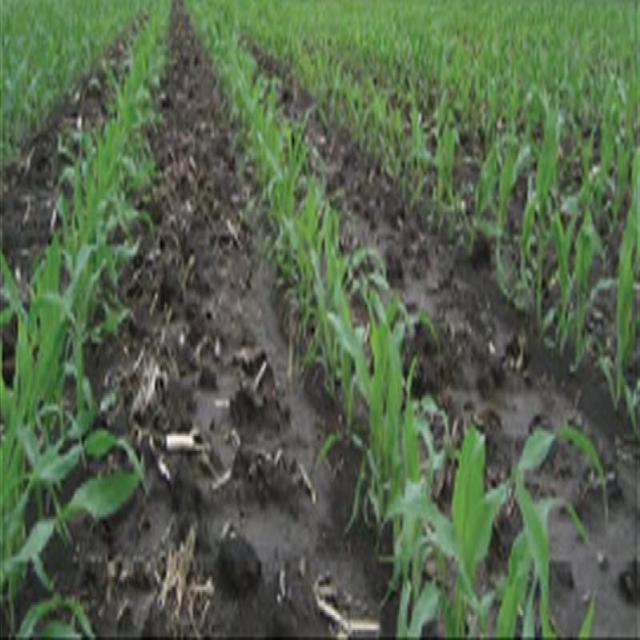row: (243, 39, 640, 640), (52, 0, 412, 637), (0, 6, 154, 387)
